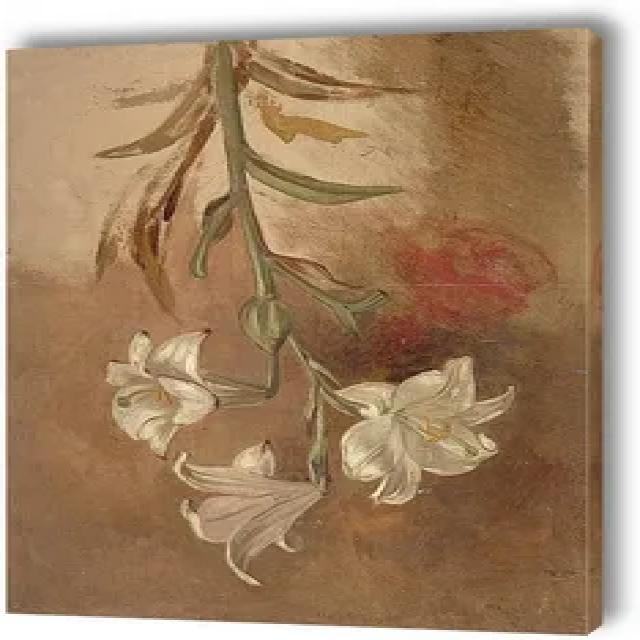lily: (333, 349, 519, 502), (97, 322, 277, 468)
